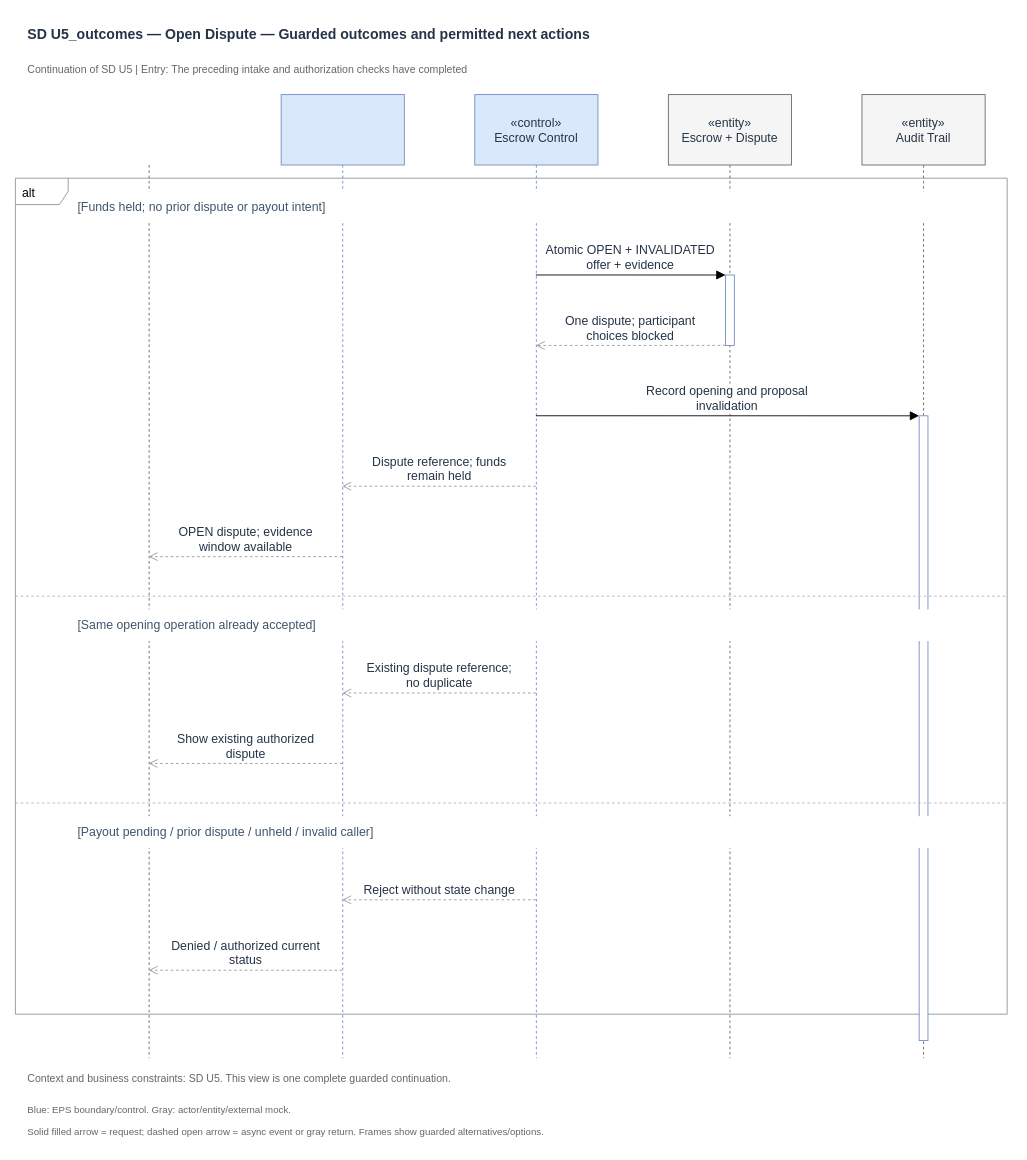
Some shapes in this 1027 by 1160 pixel diagram are drawn without their labels. Here are the shapes that lost their labels. From the top down, the centre of each, then its label:
At (149,576): "Buyer / Seller".
At (342,576): "«boundary» Escrow UI".
